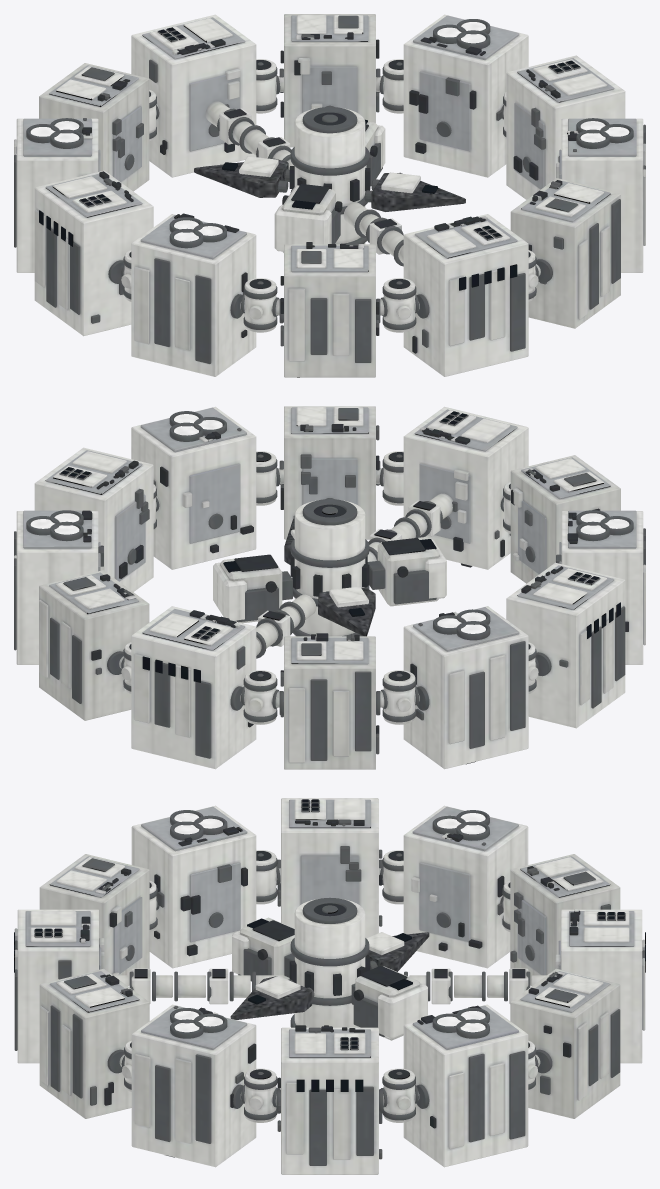
Rendered from endurance.glb.
3 renders of one model, top to bottom at view 1: azimuth 30°, elevation 25°; view 2: azimuth 150°, elevation 25°; view 3: azimuth 270°, elevation 25°, orthographic.
Parts seen in each view (by area): view 1: Endurance.001; view 2: Endurance.001; view 3: Endurance.001.
Part boxes in pixels (bbox=[...]): Endurance.001: bbox=[14, 14, 645, 377]; Endurance.001: bbox=[14, 406, 645, 769]; Endurance.001: bbox=[14, 798, 645, 1174].
Size of the model in its own units: 2.33 by 0.5724 by 2.33.
1 material, 1 textured.
